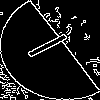I: (25, 25, 80, 61)
